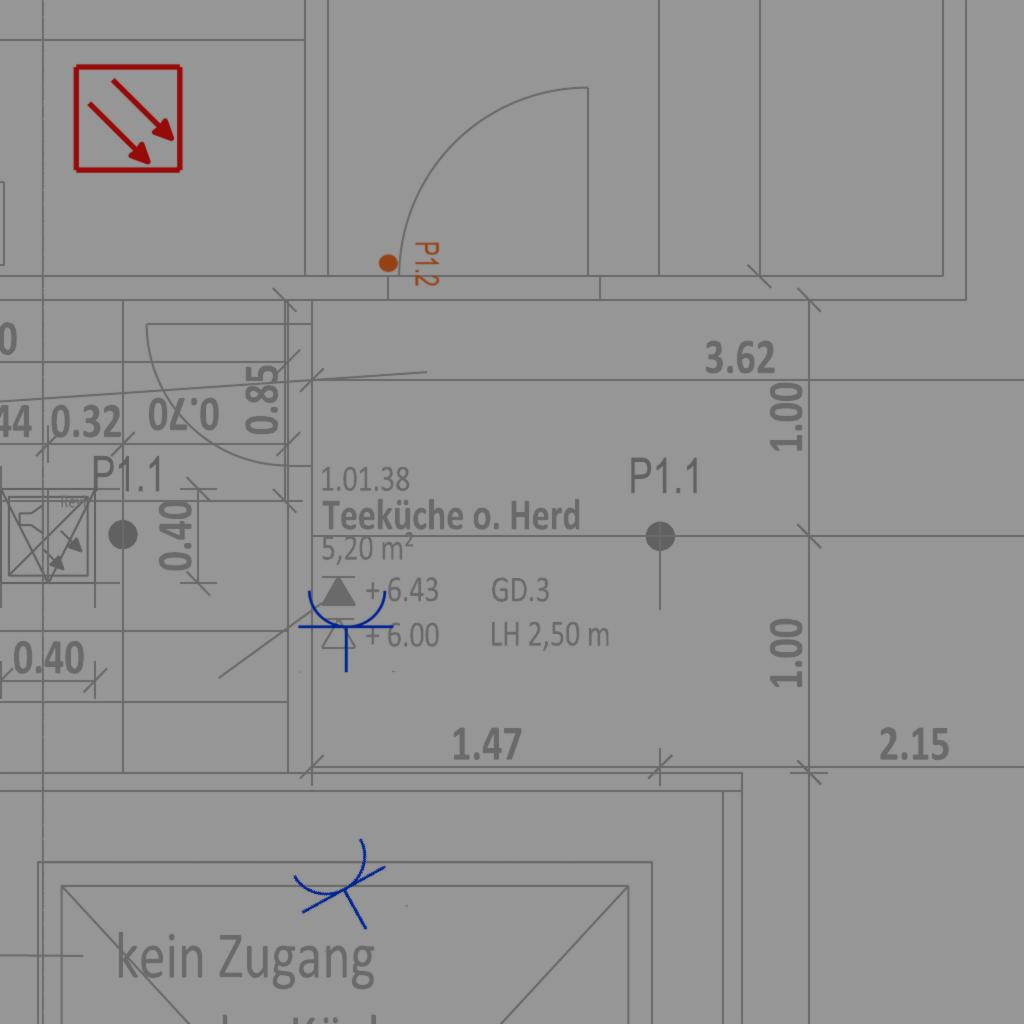Downlight_LED_Einbauleuchten_Flur: (377, 241, 441, 287)
RMO_Rauchmelder_optischer: (72, 62, 185, 175)
Schukosteckdose_einfach: (281, 829, 411, 954), (297, 586, 397, 673)
